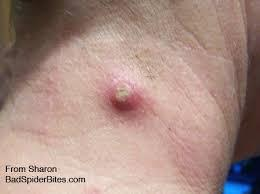Spider: (108, 79, 136, 110)
